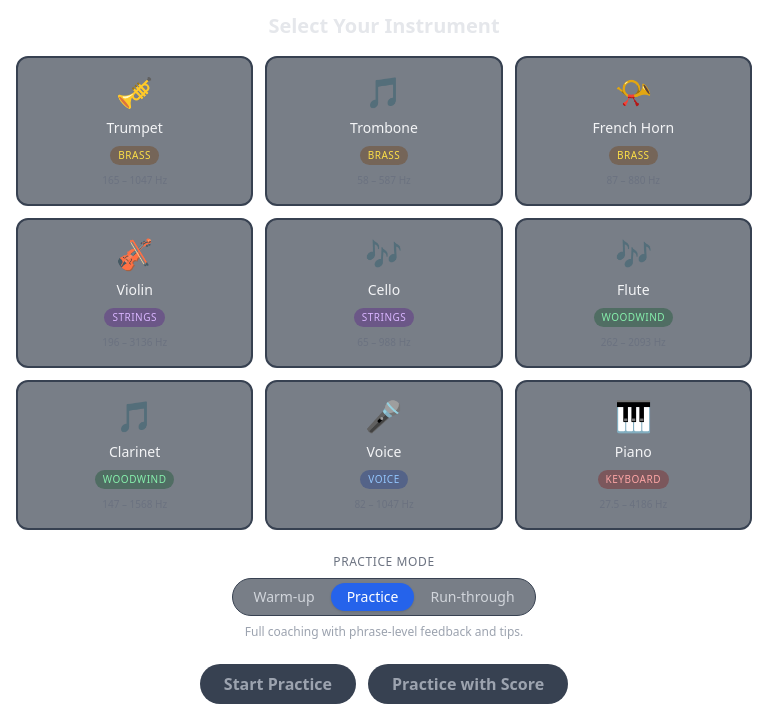
Test: InstrumentSelector › clicking a mode updates the store and the description
Click the radio button with test id "practice-mode-warmup" at (284, 597), box [237,583,331,611]
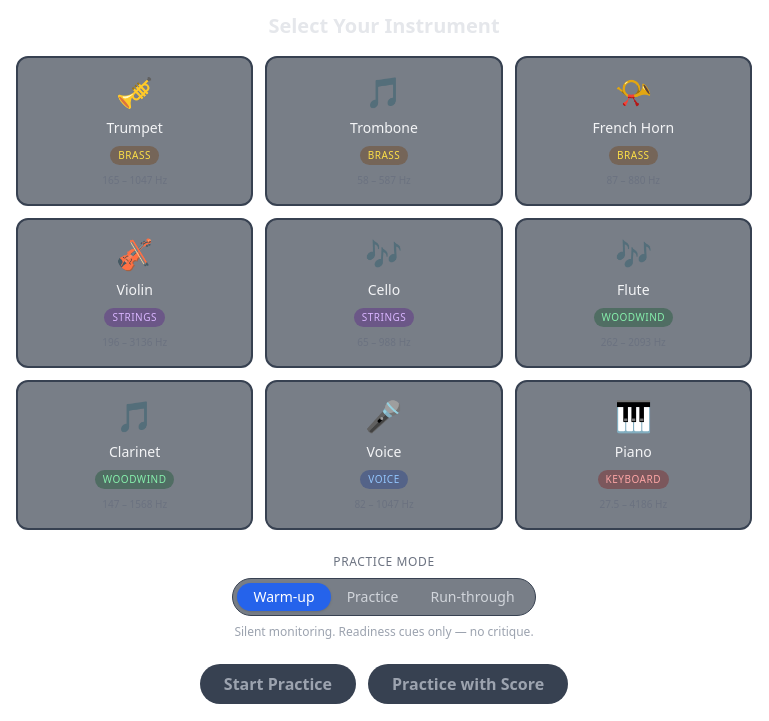
Expected: the text with test id "practice-mode-description" shows "Silent", [234,623,534,640]
